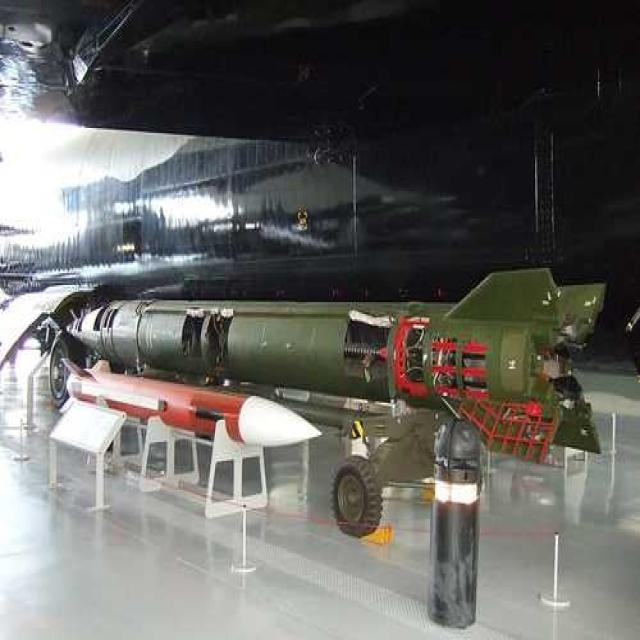missile: (70, 266, 606, 452), (56, 352, 324, 460)
